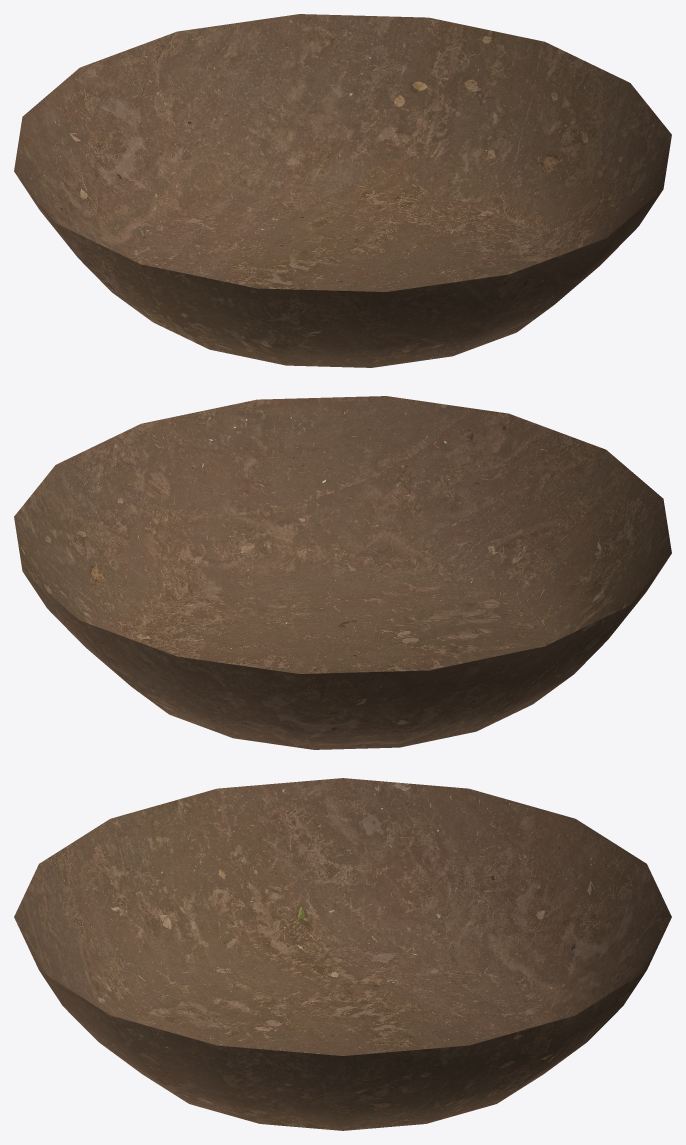
Rendered from micke2.fbx.
The picture shows the model from 3 angles, top to bottom: view 1: azimuth 30°, elevation 25°; view 2: azimuth 150°, elevation 25°; view 3: azimuth 270°, elevation 25°; orthographic projection.
Parts seen in each view (by area): view 1: тарелка; view 2: тарелка; view 3: тарелка.
Part boxes in pixels (x1,y1,x2,y2): тарелка: [14, 14, 671, 367]; тарелка: [14, 396, 671, 749]; тарелка: [14, 778, 671, 1130].
Bounding box in the file's own units: 0.1726 × 0.0353 × 0.1726.
